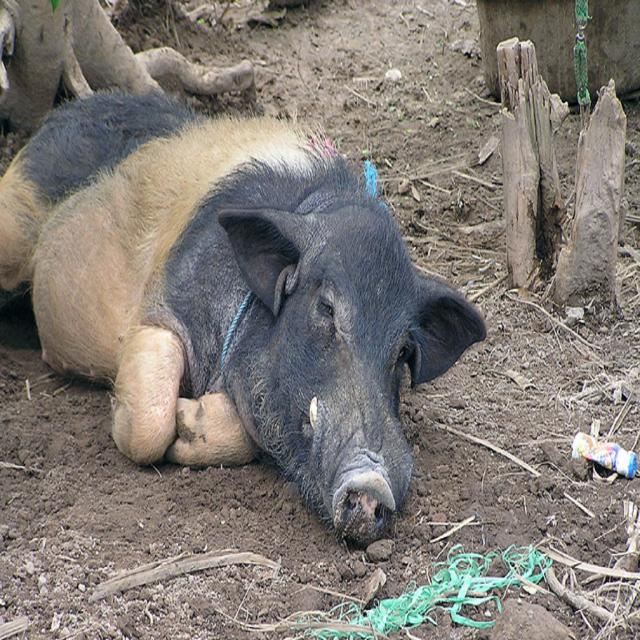Pig: (0, 85, 486, 546)
